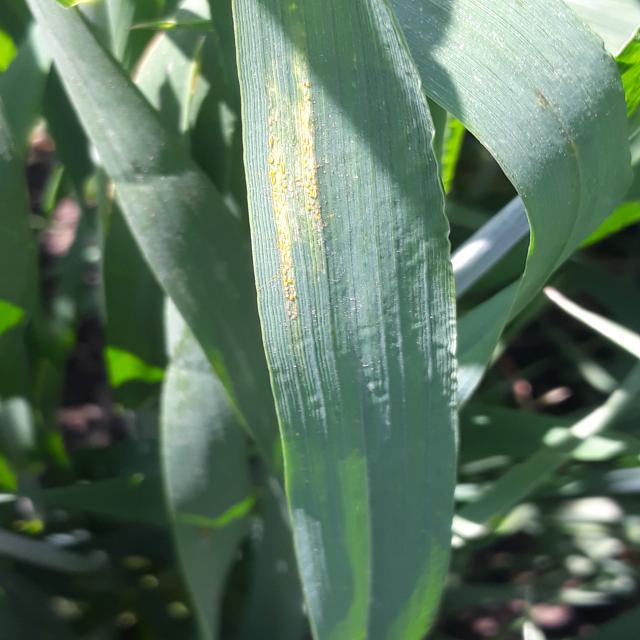yellow_rust: (196, 22, 486, 510)
